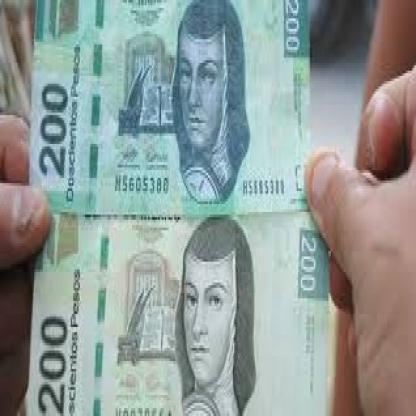billete: (27, 209, 328, 414), (27, 0, 309, 215)
